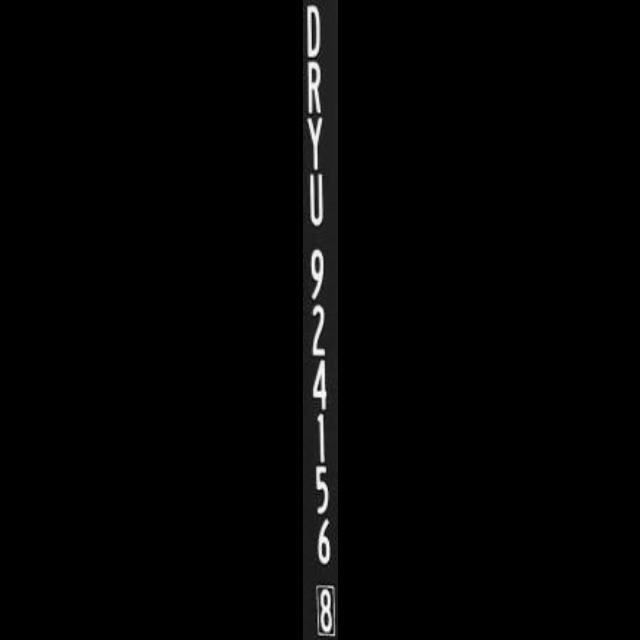1: (307, 412, 335, 464)
2: (303, 302, 331, 358)
4: (304, 356, 330, 414)
5: (304, 462, 336, 512)
6: (310, 512, 336, 564)
8: (312, 580, 338, 636)
9: (303, 246, 329, 304)
d: (302, 4, 324, 58)
r: (302, 59, 328, 117)
u: (302, 168, 332, 228)
y: (302, 113, 328, 171)
